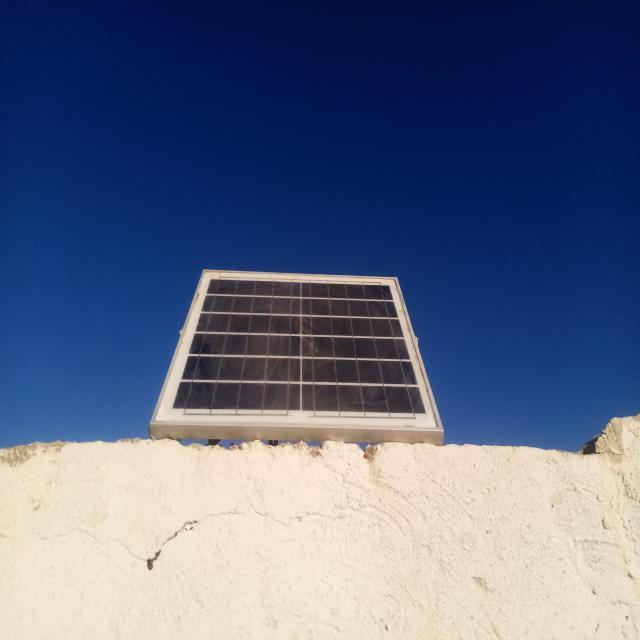faulty: (152, 269, 441, 429)
